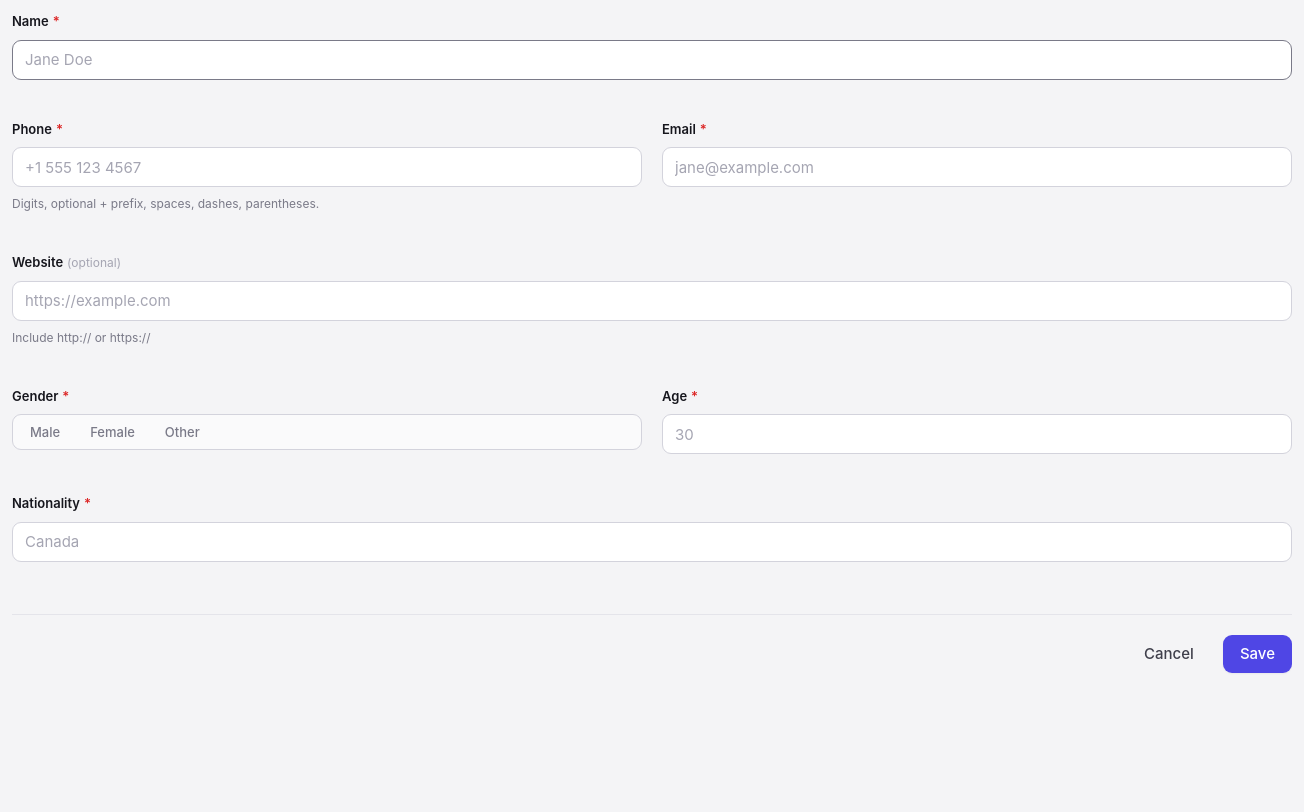
Test: ContactForm › surfaces a specific error for an invalid email
In the field labelled "Email *": coordinates (977, 167) [662,147,1292,187], type "not-an-email"
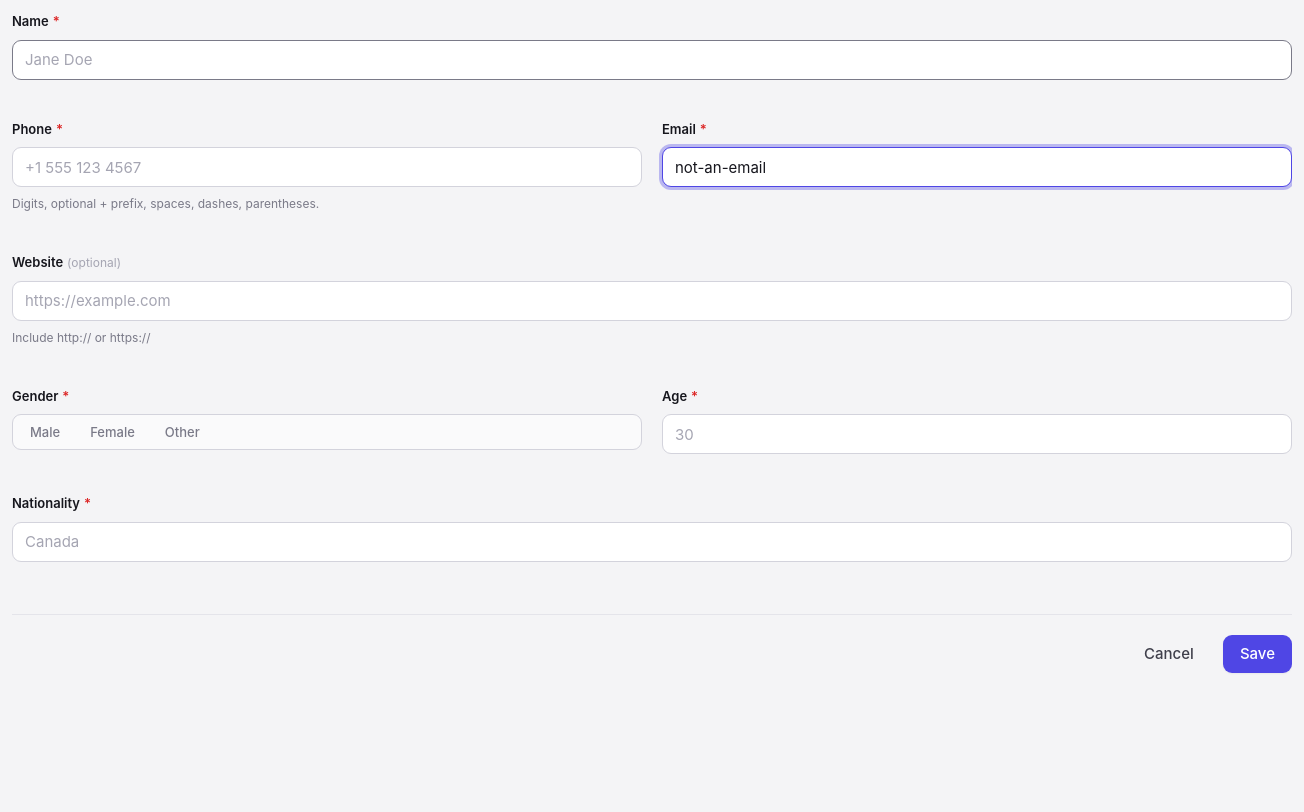
Click the button "Save": coordinates (1257, 654) [1223,634,1292,672]
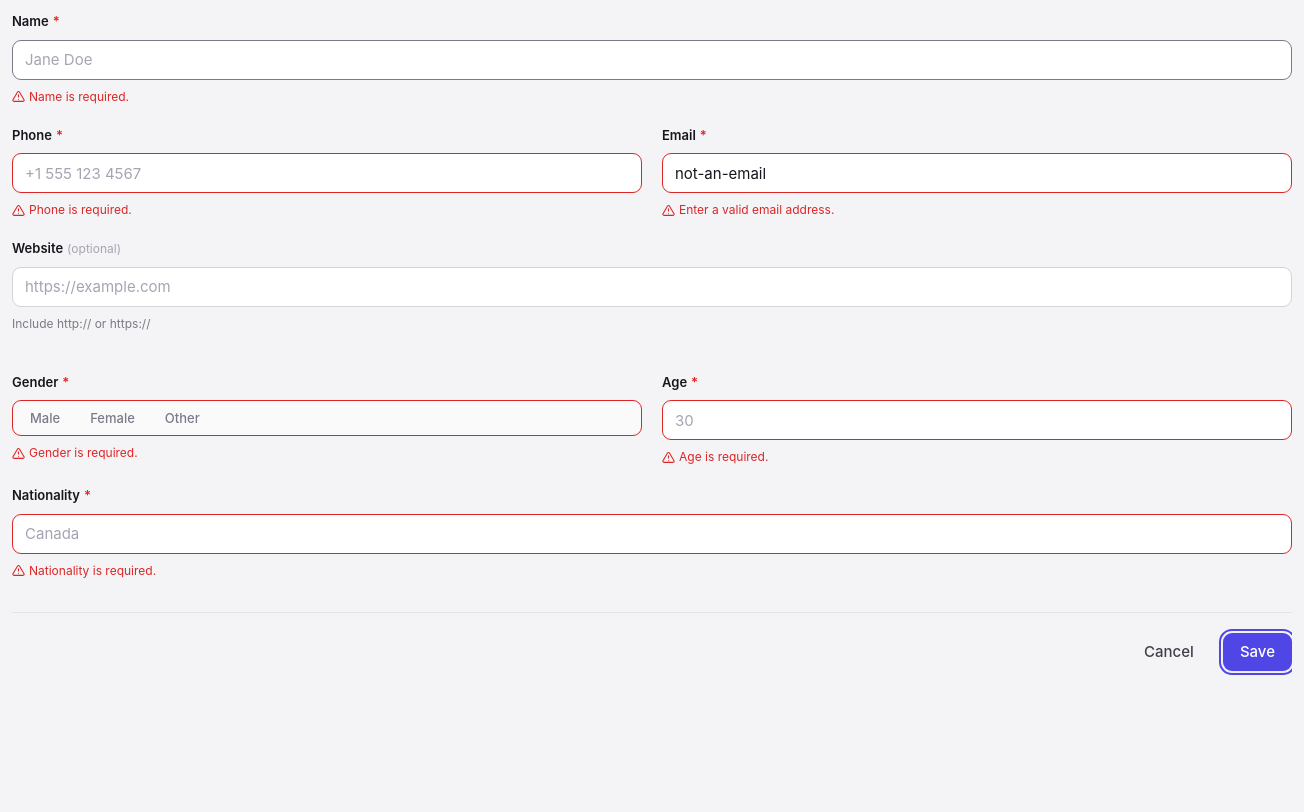
Result: the text "Enter a valid email address." is shown at [662,202,834,217]
